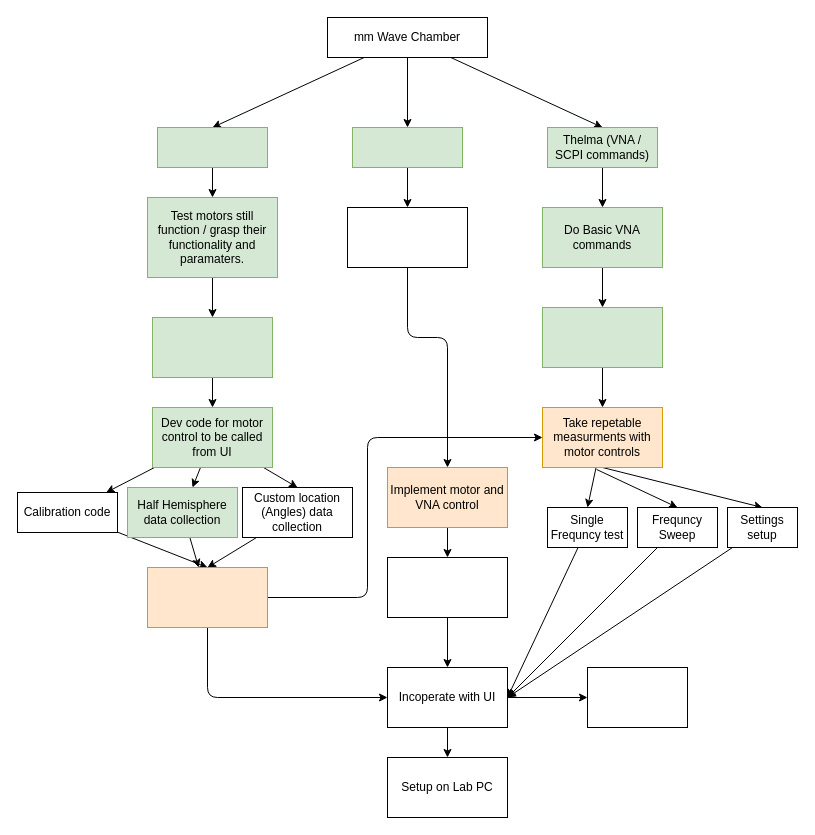
This 815x835 diagram has some shape labels left out. Each missing label, with the centre of its shape:
Anesu (UI): [407,147]
Brandon (Motors): [212,147]
Preform Calibration: [637,697]
Program Python code for testing functionality: [212,347]
Repetability testing for positioning (Accuracy testing): [207,597]
Setup Base UI: [407,237]
Setup Live data display, and data saving: [447,587]
Take measurments + save sweep to folder: [602,337]
